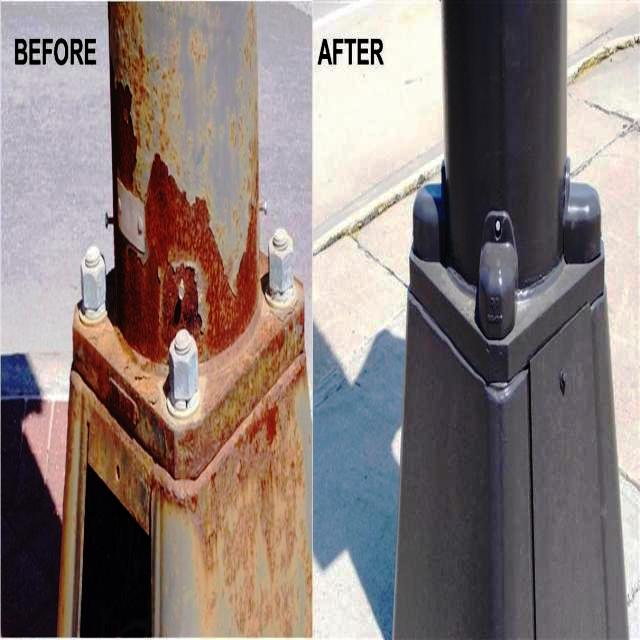Corrosion: (55, 0, 308, 640)
